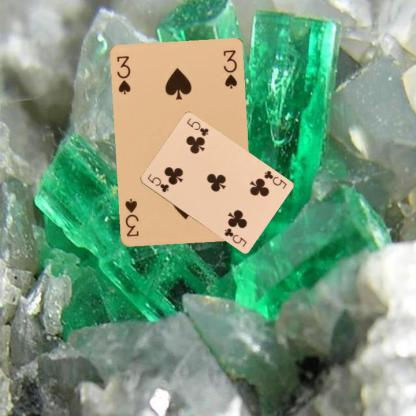3s: (115, 54, 132, 96)
5c: (144, 171, 170, 194), (261, 168, 288, 190)
